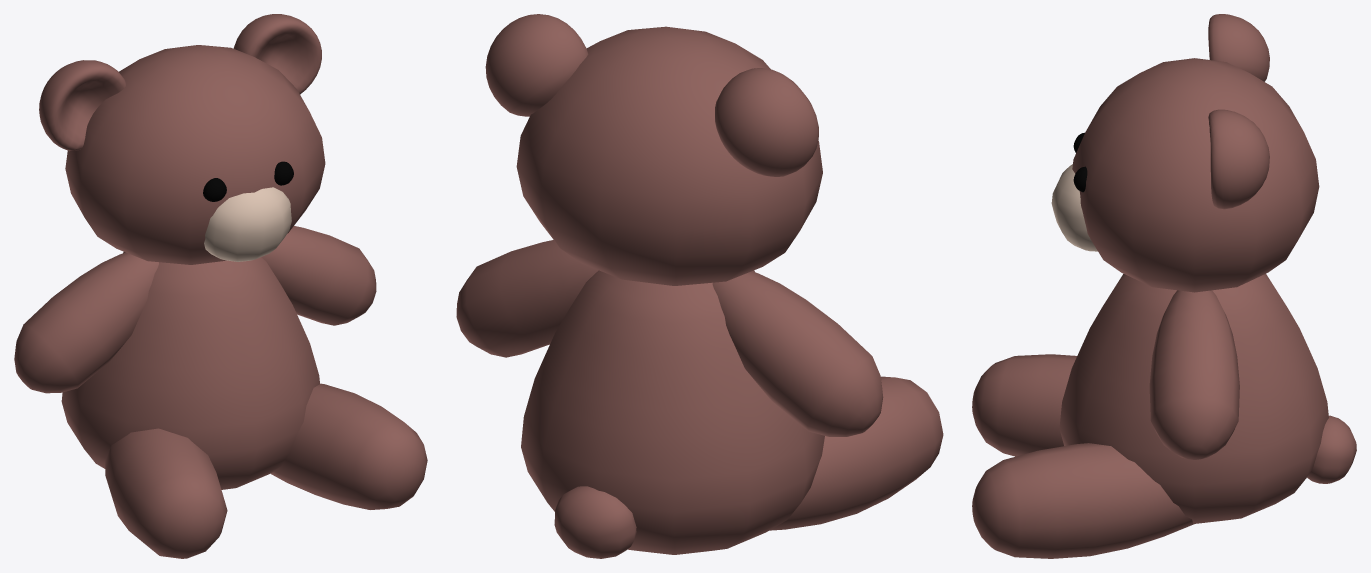
Rendered from Bed_TeddyBear.fbx.
3 views of the same model, side by side, from view 1: azimuth 30°, elevation 25°; view 2: azimuth 150°, elevation 25°; view 3: azimuth 270°, elevation 25° (orthographic). The views are drawn at different scales.
Visible parts, largest first — view 1: Head, Body, Legs, Hand, Ear, Noes, Eyes; view 2: Body, Head, Hand, Ear, Legs, Tail; view 3: Head, Body, Legs, Hand, Ear, Tail, Noes.
Part boxes in pixels (x1,y1,x2,y2): Head: (65,45,325,264); Body: (61,252,319,489); Legs: (105,383,427,558); Hand: (14,226,376,393); Ear: (39,14,321,151); Noes: (204,187,291,261); Eyes: (203,161,293,201); Body: (521,270,824,554); Head: (516,26,822,285); Hand: (456,240,883,436); Ear: (485,14,818,176); Legs: (769,376,943,530); Tail: (554,486,636,558); Head: (1072,58,1319,292); Body: (1059,273,1328,523); Legs: (972,354,1194,558); Hand: (1149,290,1239,459); Ear: (1208,14,1269,209); Tail: (1307,415,1356,483); Noes: (1051,164,1097,251).
Size of the model in its own units: 328 by 377 by 297.
